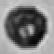correct: (3, 4, 49, 50)
